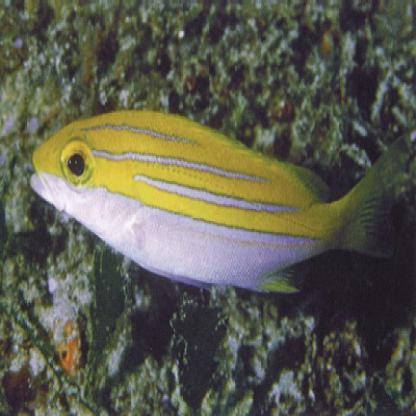Lutjanidae -Snappers-: (30, 100, 400, 303)
